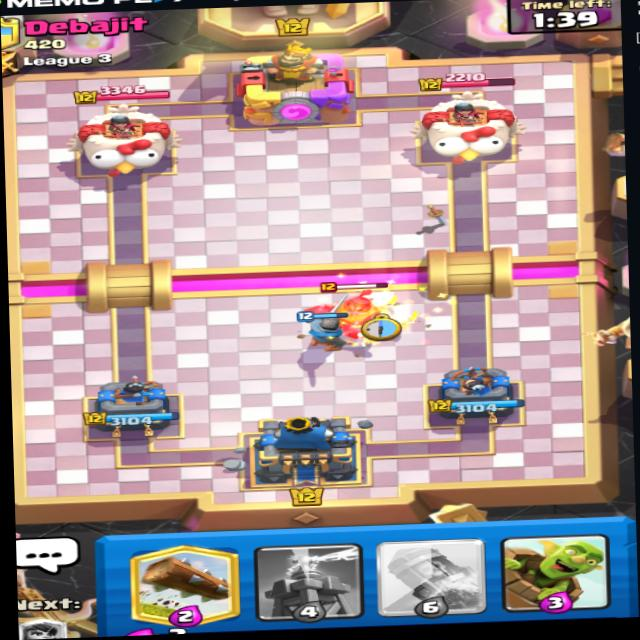Megaknight: (295, 288, 398, 347)
